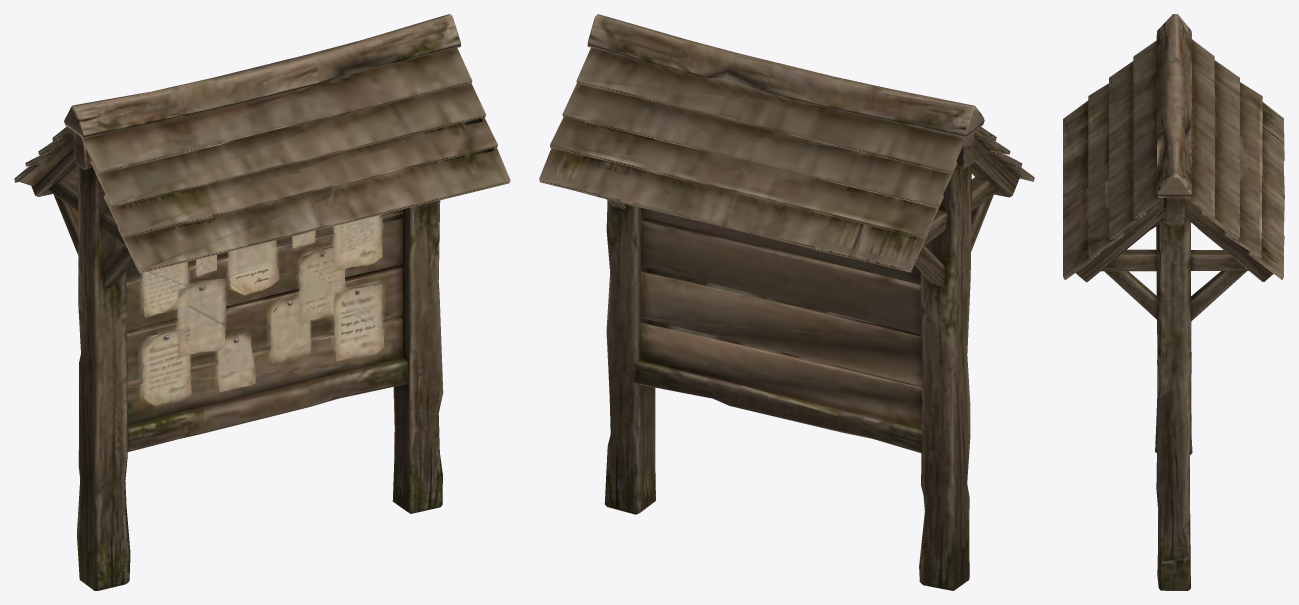
The model's file is noticeBoard.glb.
3 views of the same model, side by side, from view 1: azimuth 30°, elevation 25°; view 2: azimuth 150°, elevation 25°; view 3: azimuth 270°, elevation 25° (orthographic). The views are drawn at different scales.
Size of the model in its own units: 0.7847 by 0.9536 by 0.4526.
Materials: 1 (1 with a texture image).
